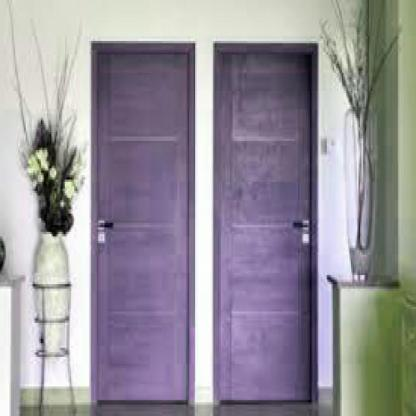door: (208, 9, 340, 412), (83, 18, 207, 414)
